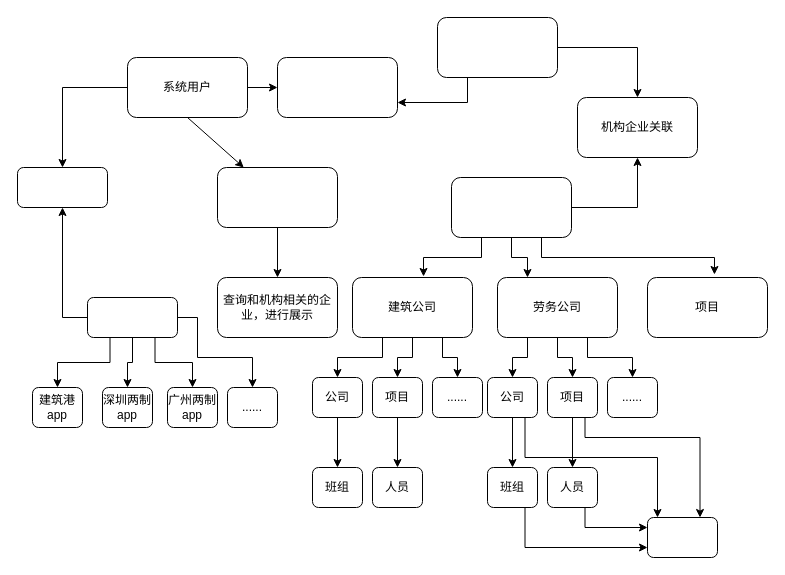
Some shapes in this 785 by 575 pixel diagram are drawn without their labels. The shapes that lost their labels are listed below. From the top down, each one's centre as x and y in pixels, then its label:
At (x=497, y=47): "机构".
At (x=337, y=87): "用户机构关联".
At (x=62, y=187): "用户关联".
At (x=277, y=197): "登录选择一个机构".
At (x=511, y=207): "企业".
At (x=132, y=317): "APP用户".
At (x=682, y=537): "其他功能".
